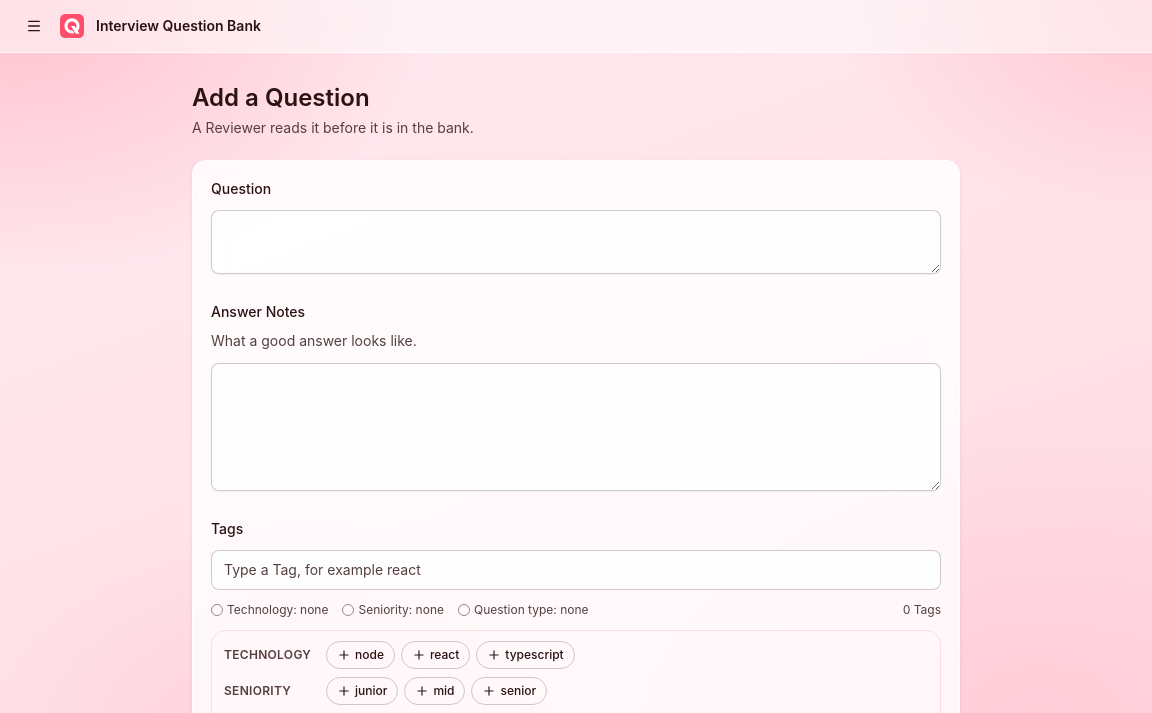
adding a Question that is refused › shows a field the API refused against that field, in words a person can act on
Step 1. Type "How would you find a slow query?" into the text box labelled "Question" → (576,242), box x1=211 y1=210 x2=941 y2=274
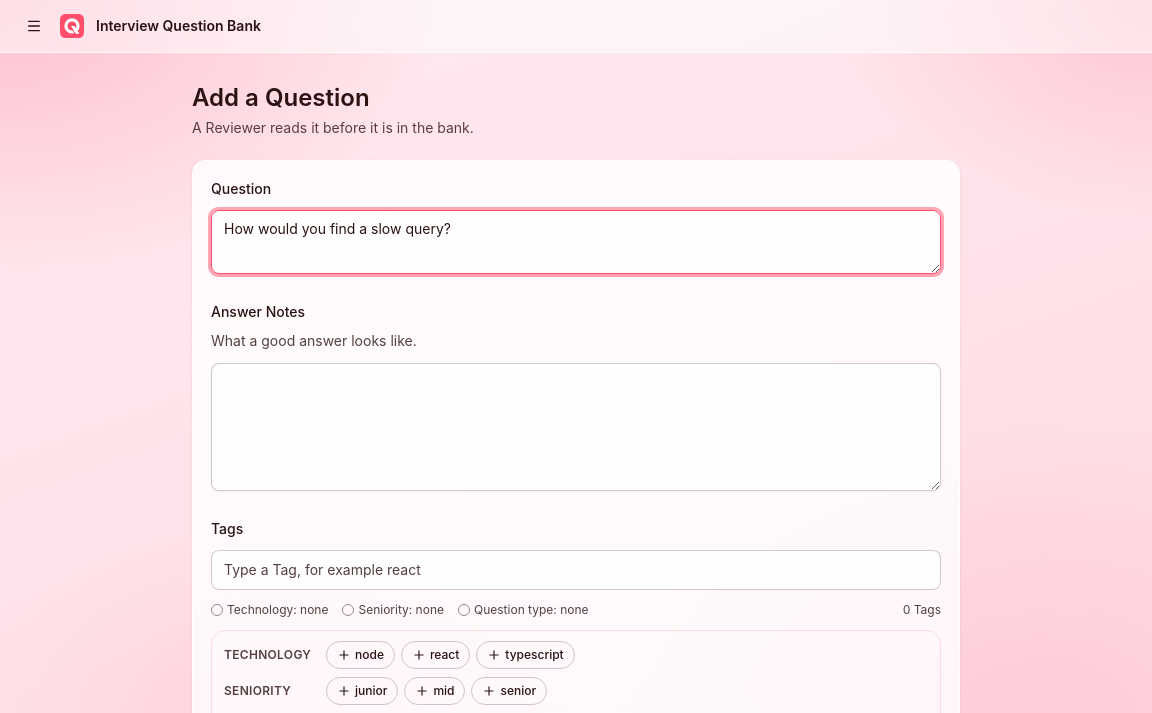
Step 2. Type "Look for EXPLAIN ANALYZE." into the text box labelled "Answer Notes" → (576,426), box x1=211 y1=362 x2=941 y2=490
(page scrolled)
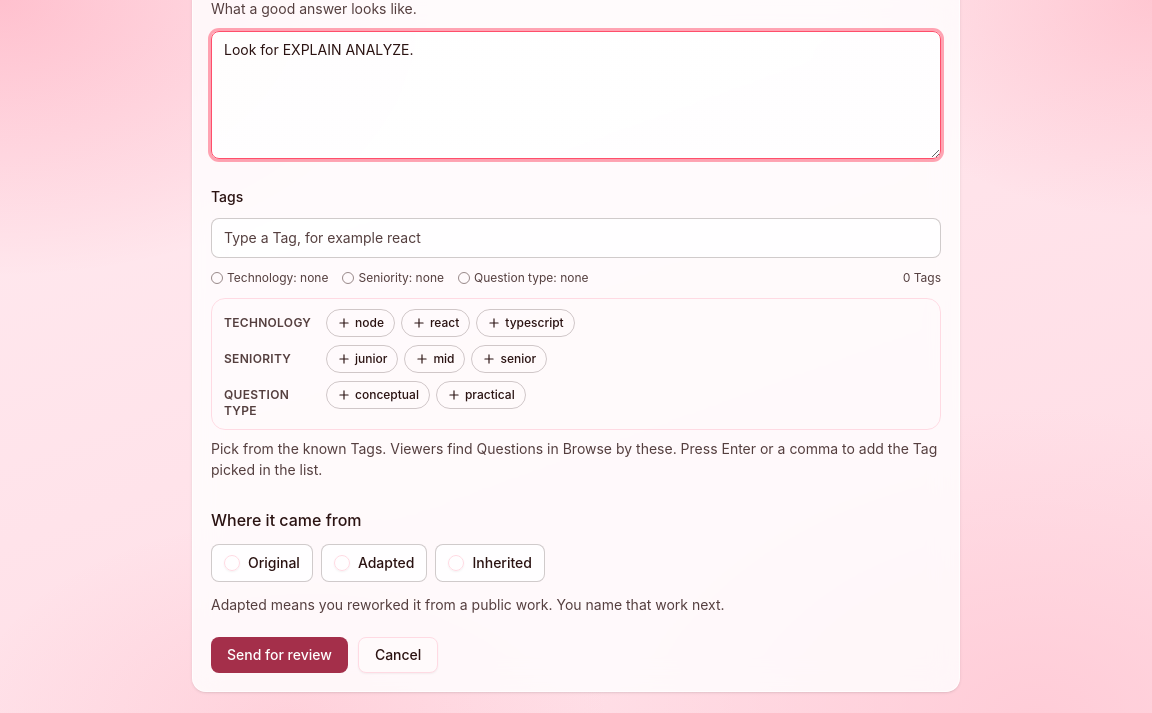
Step 3. Click the radio button named "Original" next to "Original" → (232,563), box x1=224 y1=555 x2=240 y2=571
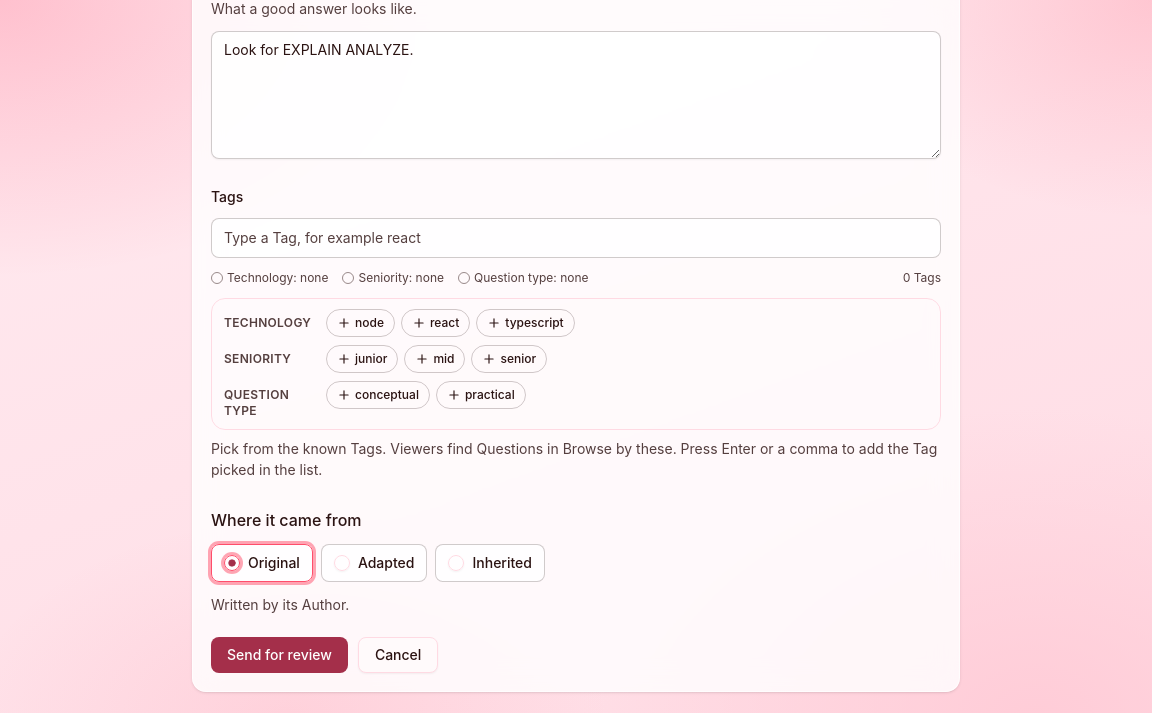
Step 4. Click the button "Send for review" → (279,655), box x1=211 y1=637 x2=348 y2=673
(page scrolled)
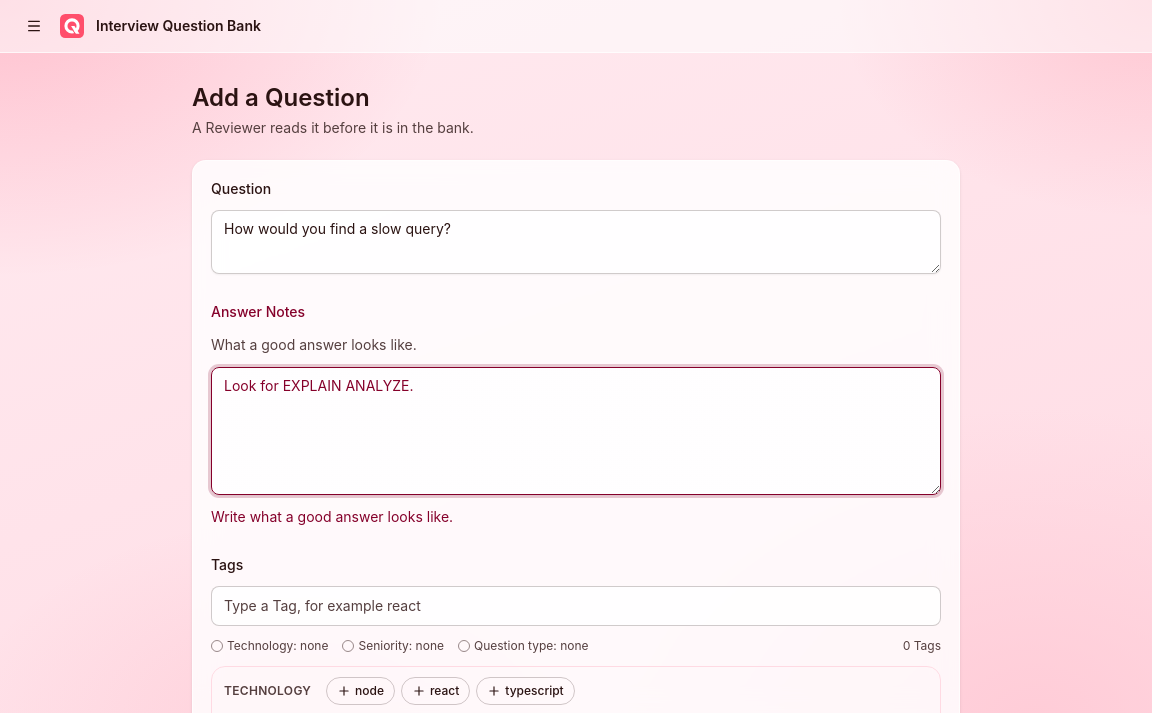
Expected: the text "Write what a good answer looks like." is shown, x1=211 y1=508 x2=453 y2=524
